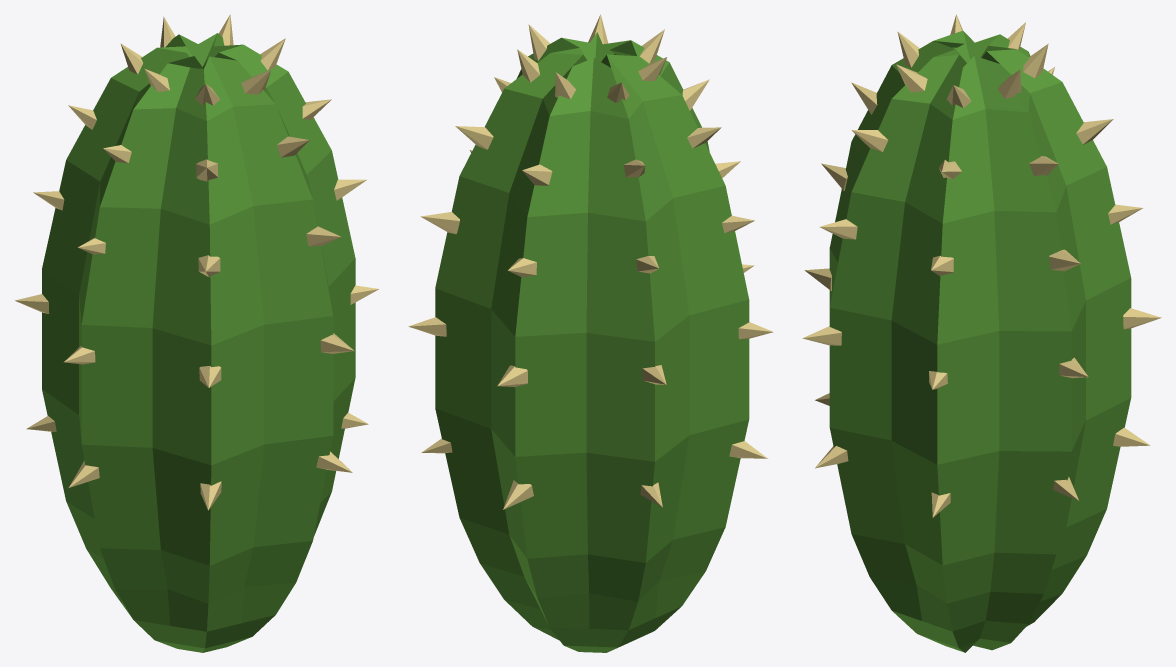
The model's file is cactus.fbx.
3 renders of one model, left to right at view 1: azimuth 30°, elevation 25°; view 2: azimuth 150°, elevation 25°; view 3: azimuth 270°, elevation 25°, orthographic.
Parts seen in each view (by area): view 1: Base; view 2: Base; view 3: Base.
Boxes of the visible parts, x1,y1,x2,y2 form: Base: (42, 33, 355, 652); Base: (435, 32, 749, 652); Base: (829, 30, 1131, 652).
Bounding box in the file's own units: 1213 × 2199 × 1191.
